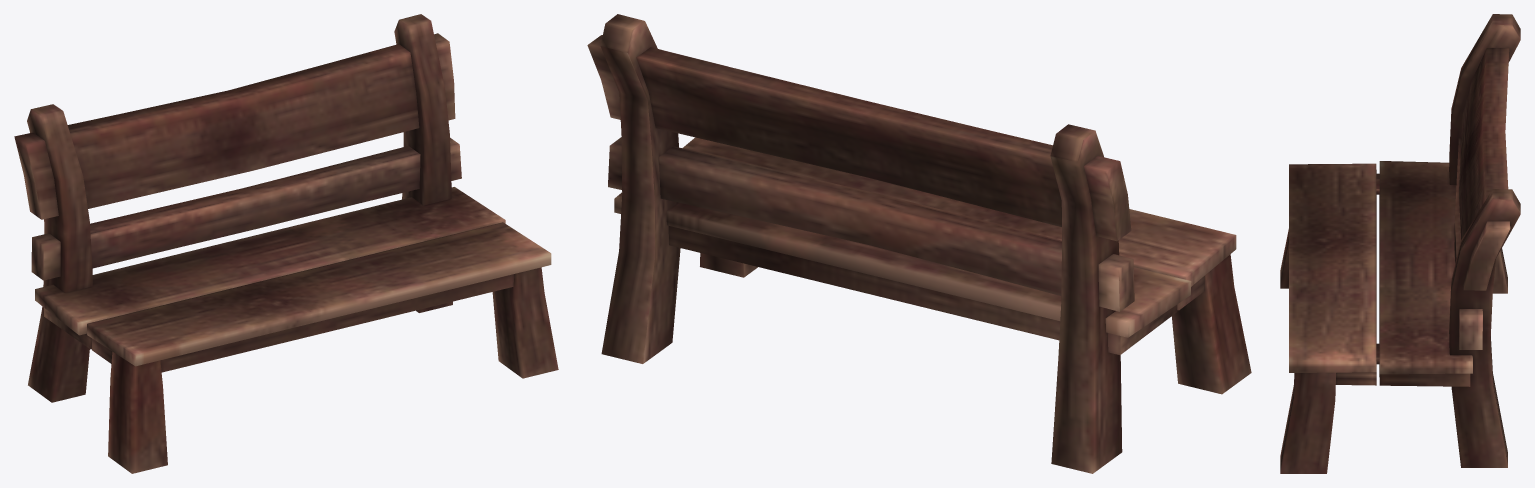
Rendered from Bench.fbx.
3 renders of one model, left to right at view 1: azimuth 30°, elevation 25°; view 2: azimuth 150°, elevation 25°; view 3: azimuth 270°, elevation 25°, orthographic. The views are drawn at different scales.
Visible parts, largest first — view 1: ParkBench; view 2: ParkBench; view 3: ParkBench.
Part boxes in pixels (x1,y1,x2,y2): ParkBench: [14, 14, 558, 473]; ParkBench: [587, 14, 1251, 473]; ParkBench: [1280, 14, 1520, 473].
Size of the model in its own units: 202 by 123 by 101.
